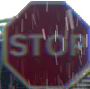Stop: (3, 0, 89, 88)
